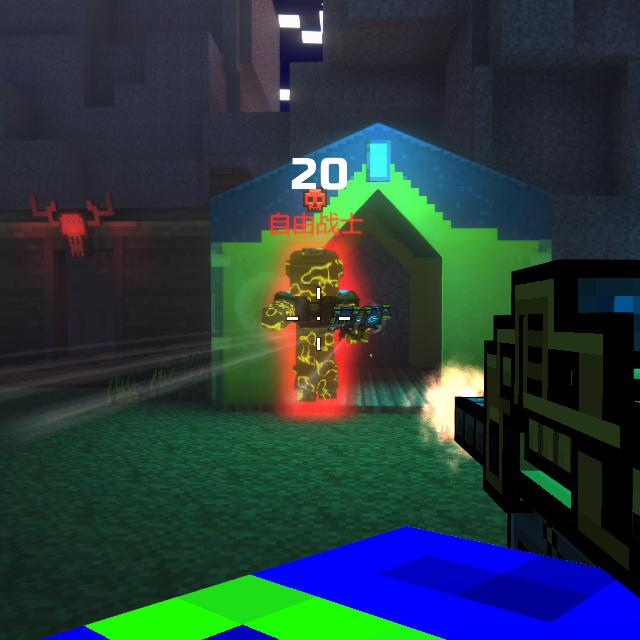Enemy: (264, 250, 374, 404)
